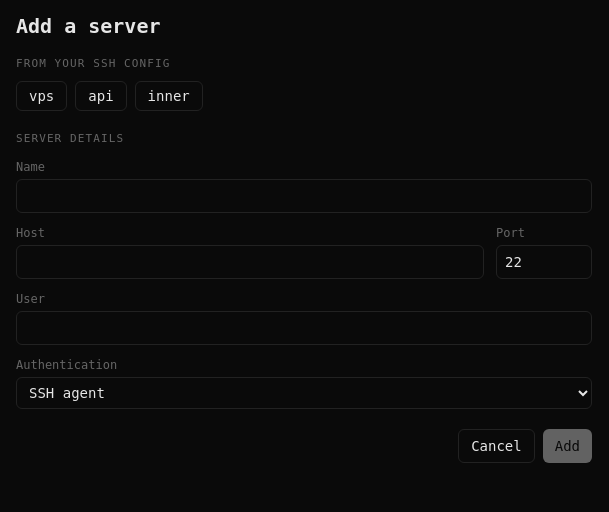
Test case: AddServer › blocks a host that needs ProxyJump and says so
Click the button "inner" at {"x": 169, "y": 96}, box [135,80,203,110]
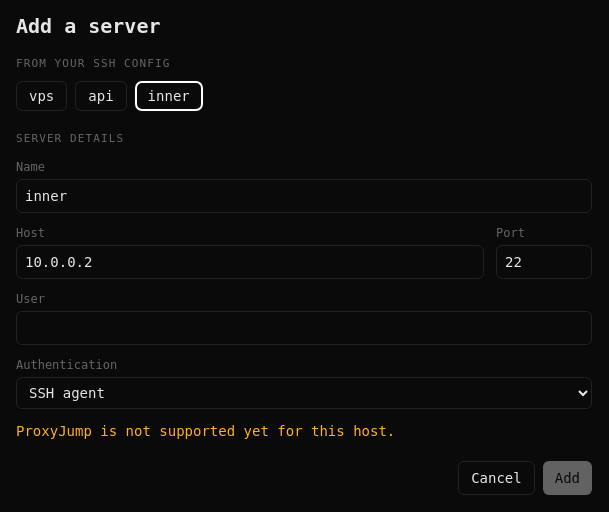
expect the button "Add" is disabled: met, box [543,461,592,495]
expect the text "ProxyJump is not supported yet for this host." is shown: met, box [16,423,395,439]
